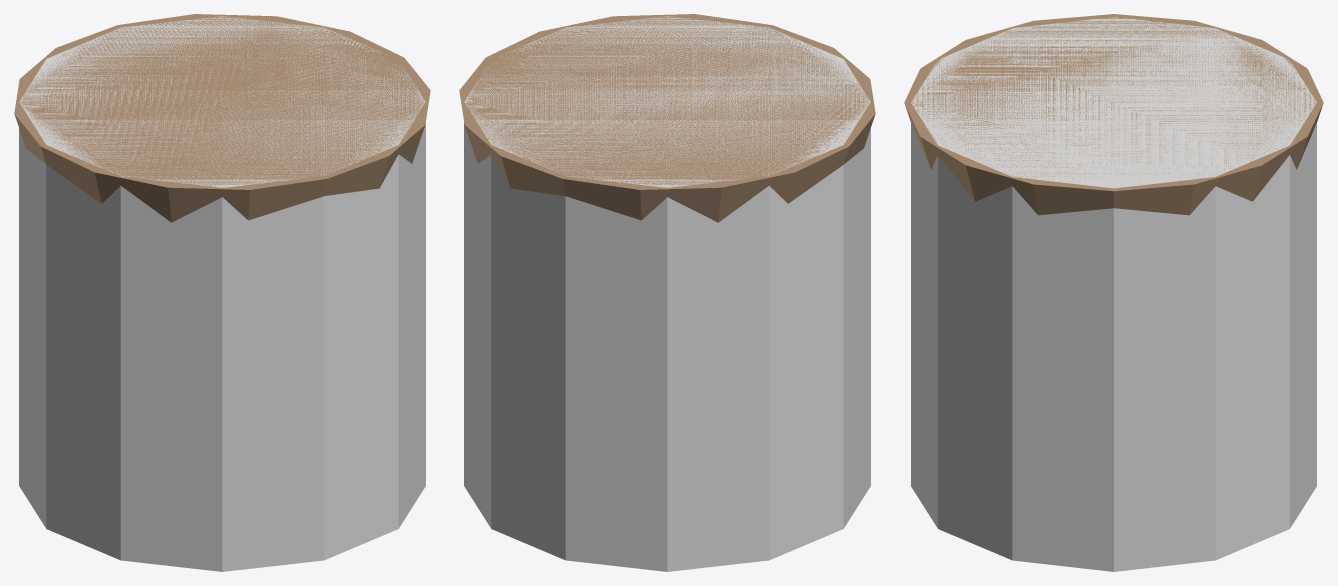
File: medieval_barrel.glb
The picture shows the model from 3 angles, left to right: view 1: azimuth 30°, elevation 25°; view 2: azimuth 150°, elevation 25°; view 3: azimuth 270°, elevation 25°; orthographic projection.
Parts seen in each view (by area): view 1: Barrel-col, Barrel_Body; view 2: Barrel-col, Barrel_Body; view 3: Barrel-col, Barrel_Body.
Boxes of the visible parts, x1,y1,x2,y2 form: Barrel-col: [19, 16, 425, 571]; Barrel_Body: [14, 14, 430, 222]; Barrel-col: [464, 16, 870, 571]; Barrel_Body: [459, 14, 875, 222]; Barrel-col: [911, 17, 1316, 571]; Barrel_Body: [904, 14, 1323, 215].
Size of the model in its own units: 0.9912 by 1 by 0.9912.
